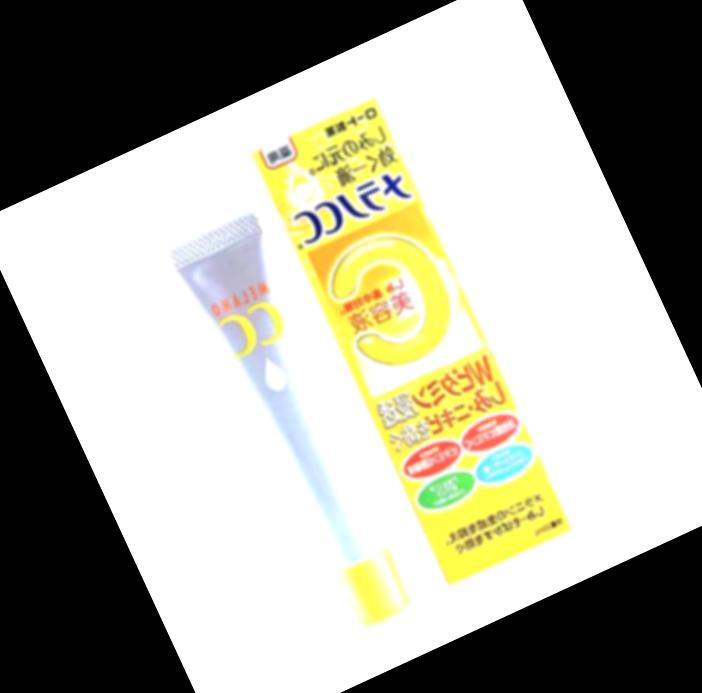cosmetic: (167, 208, 436, 637)
